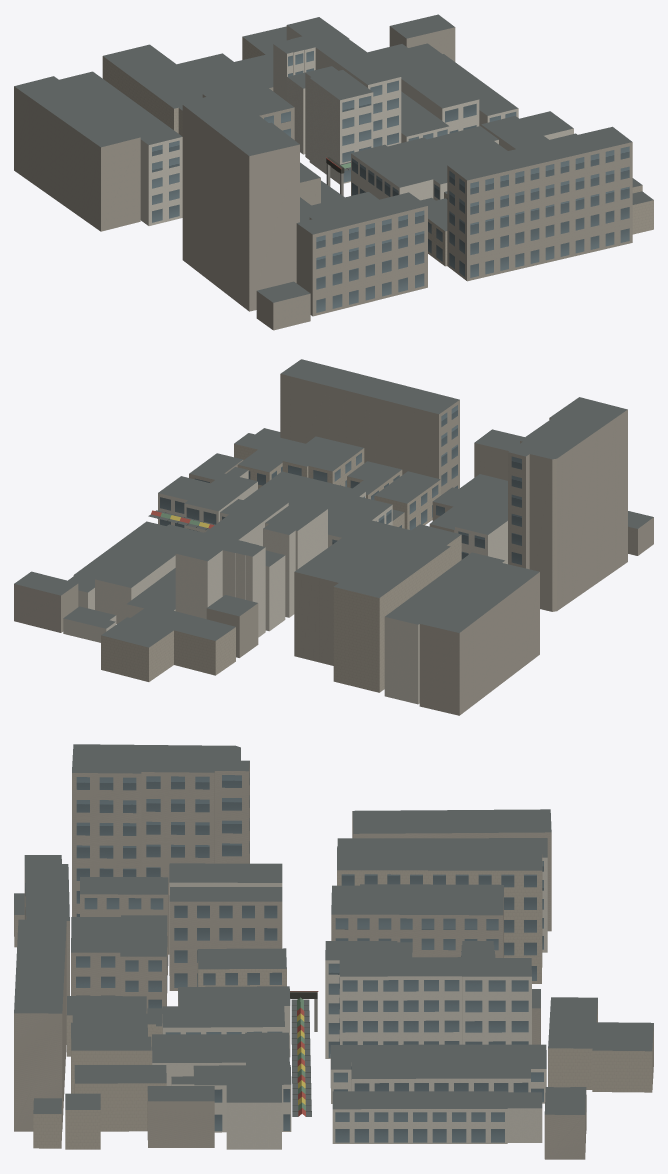
3 renders of one model, top to bottom at view 1: azimuth 30°, elevation 25°; view 2: azimuth 150°, elevation 25°; view 3: azimuth 270°, elevation 25°, orthographic. The views are drawn at different scales.
Parts seen in each view (by area): view 1: cell-e002-n001_base_tile-wall, cell-e002-n001_base_roof, cell-e002-n001_base_glass, cell-e002-n001_base_plaster, cell-e002-n001_base_stone; view 2: cell-e002-n001_base_roof, cell-e002-n001_base_tile-wall, cell-e002-n001_base_plaster, cell-e002-n001_base_stone, cell-e002-n001_base_glass; view 3: cell-e002-n001_base_roof, cell-e002-n001_base_tile-wall, cell-e002-n001_base_glass, cell-e002-n001_base_plaster, cell-e002-n001_base_stone, cell-e002-n001_base_Canopy_roof.
Part boxes in pixels (box(x1,y1,x2,y2)): cell-e002-n001_base_tile-wall: box(14, 26, 632, 330); cell-e002-n001_base_roof: box(14, 14, 653, 302); cell-e002-n001_base_glass: box(152, 51, 629, 312); cell-e002-n001_base_plaster: box(140, 25, 573, 225); cell-e002-n001_base_stone: box(102, 37, 653, 266); cell-e002-n001_base_roof: box(14, 359, 653, 647); cell-e002-n001_base_tile-wall: box(14, 374, 653, 715); cell-e002-n001_base_plaster: box(63, 470, 507, 704); cell-e002-n001_base_stone: box(101, 444, 461, 692); cell-e002-n001_base_glass: box(160, 405, 521, 564); cell-e002-n001_base_roof: box(14, 744, 653, 1114); cell-e002-n001_base_tile-wall: box(14, 762, 586, 1159); cell-e002-n001_base_glass: box(25, 773, 543, 1142); cell-e002-n001_base_plaster: box(152, 857, 586, 1149); cell-e002-n001_base_stone: box(33, 854, 653, 1149); cell-e002-n001_base_Canopy_roof: box(291, 1000, 311, 1116).
Bounding box in the file's own units: 79.93 × 27.03 × 85.99.
Materials: 10 (5 with a texture image).
